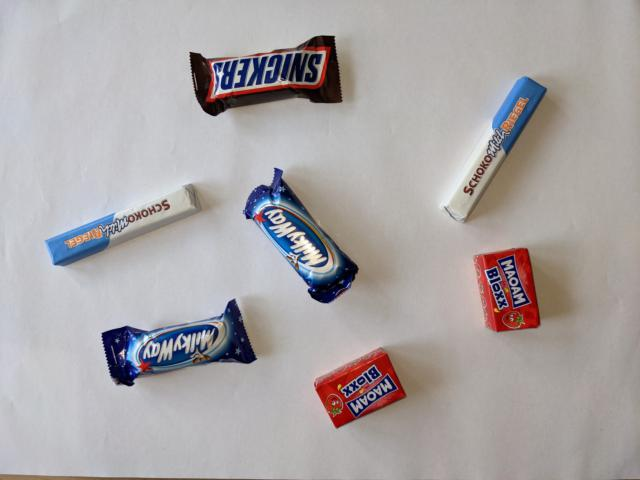MAOAM: (311, 345, 408, 432), (471, 246, 542, 335)
MilkyWay: (240, 165, 361, 305), (99, 298, 258, 388)
Schokoriegel: (434, 74, 548, 226), (42, 181, 205, 269)
Snickers: (187, 33, 345, 118)
